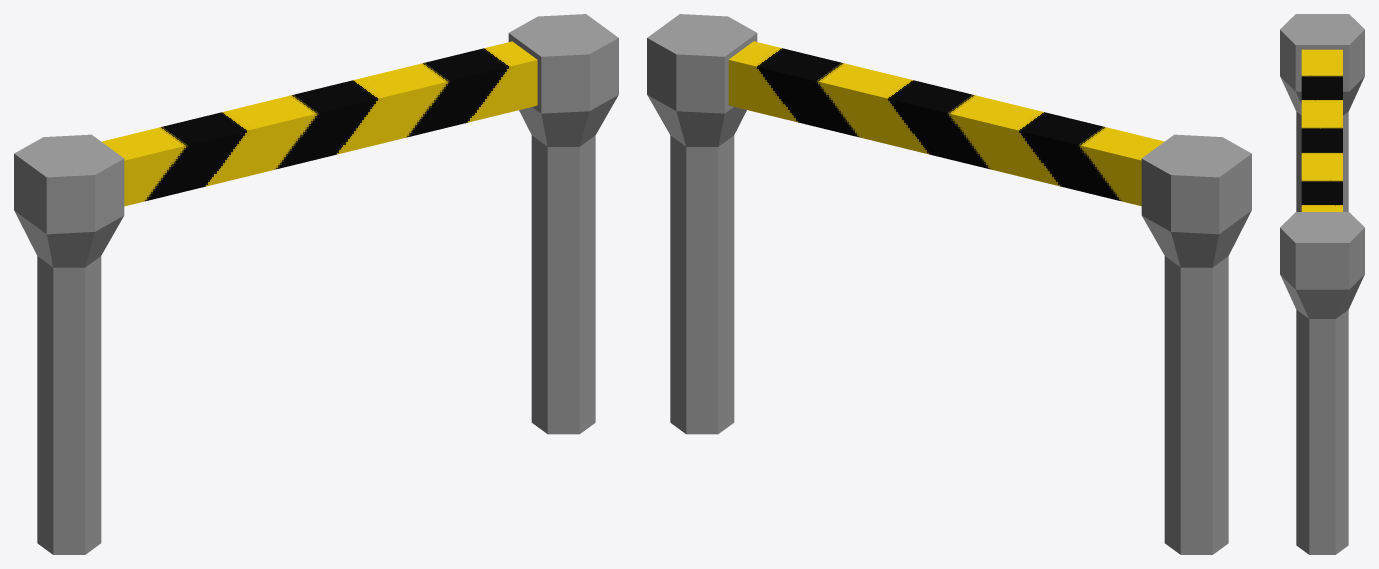
The model's file is metal-fence.fbx.
The picture shows the model from 3 angles, left to right: view 1: azimuth 30°, elevation 25°; view 2: azimuth 150°, elevation 25°; view 3: azimuth 270°, elevation 25°; orthographic projection. The views are drawn at different scales.
Visible parts, largest first — view 1: Fencing; view 2: Fencing; view 3: Fencing.
Boxes of the visible parts, bbox=[...] form: Fencing: bbox=[14, 14, 618, 554]; Fencing: bbox=[647, 14, 1251, 554]; Fencing: bbox=[1280, 14, 1364, 554].
Size of the model in its own units: 422 by 273 by 66.13.
